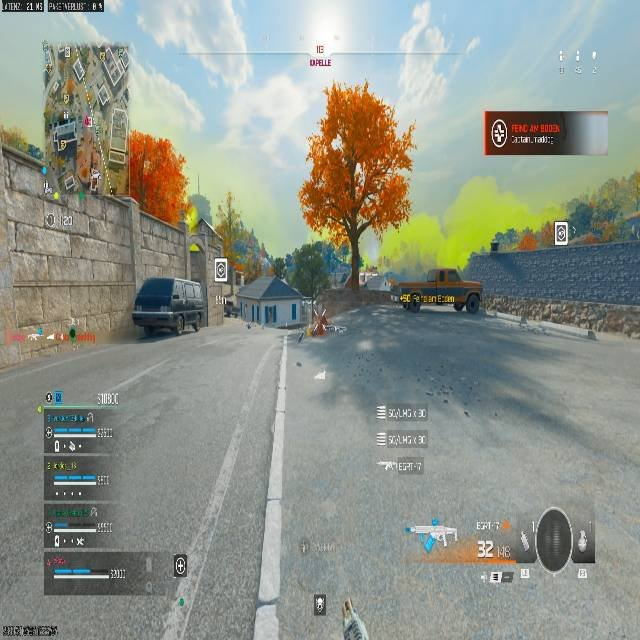player: (307, 301, 330, 338)
